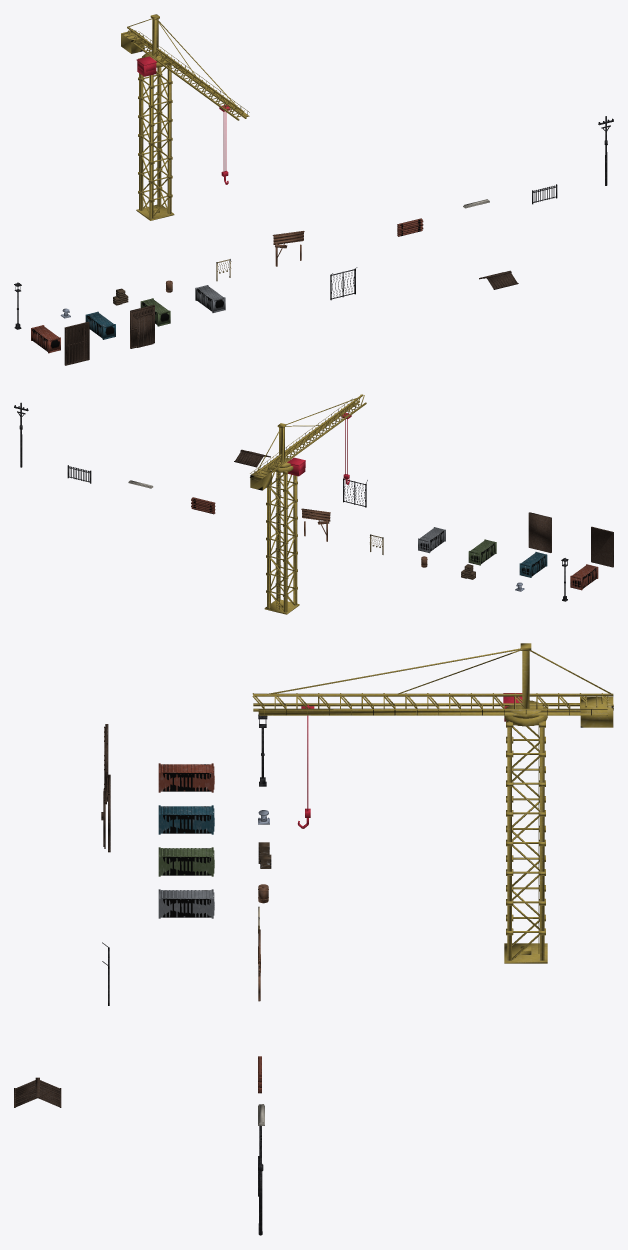
Rendered from _PaqueteArena.fbx.
3 views of the same model, one above another, from view 1: azimuth 30°, elevation 25°; view 2: azimuth 150°, elevation 25°; view 3: azimuth 270°, elevation 25° (orthographic). The views are drawn at different scales.
Parts seen in each view (by area): view 1: Grua_Estructura, Galpon_Pared, Galpon_ParedPorton, Grua_Cabina, Contenedor_Gris, Contenedor_Rojo, Contenedor_Azul, Prop_Cartel; view 2: Grua_Estructura, Galpon_ParedPorton, Galpon_Pared, Contenedor_Rojo, Contenedor_Verde, Contenedor_Azul, Contenedor_Gris, Grua_Cabina, Prop_Cartel, Galpon_Techo, Prop_Alambrado; view 3: Grua_Estructura, Contenedor_Azul, Contenedor_Gris, Contenedor_Rojo, Contenedor_Verde, Galpon_Techo.
Boxes of the visible parts, x1,y1,x2,y2 form: Grua_Estructura: (121, 14, 249, 220); Galpon_Pared: (64, 321, 89, 365); Galpon_ParedPorton: (130, 305, 154, 348); Grua_Cabina: (136, 56, 230, 184); Contenedor_Gris: (195, 285, 225, 312); Contenedor_Rojo: (31, 325, 60, 353); Contenedor_Azul: (85, 311, 115, 339); Prop_Cartel: (272, 231, 304, 266); Grua_Estructura: (250, 394, 366, 614); Galpon_ParedPorton: (528, 512, 551, 552); Galpon_Pared: (591, 526, 613, 567); Contenedor_Rojo: (570, 564, 598, 590); Contenedor_Verde: (468, 539, 496, 565); Contenedor_Azul: (519, 552, 547, 577); Contenedor_Gris: (418, 527, 445, 553); Grua_Cabina: (287, 413, 351, 484); Prop_Cartel: (301, 508, 330, 541); Galpon_Techo: (234, 449, 270, 467); Prop_Alambrado: (343, 478, 367, 507); Grua_Estructura: (252, 643, 613, 963); Contenedor_Azul: (158, 805, 214, 834); Contenedor_Gris: (158, 889, 214, 918); Contenedor_Rojo: (158, 763, 214, 792); Contenedor_Verde: (158, 847, 214, 876); Galpon_Techo: (14, 1077, 61, 1107).
Bounding box in the file's own units: 198 × 62.6 × 110.
20 materials, 20 textured.
